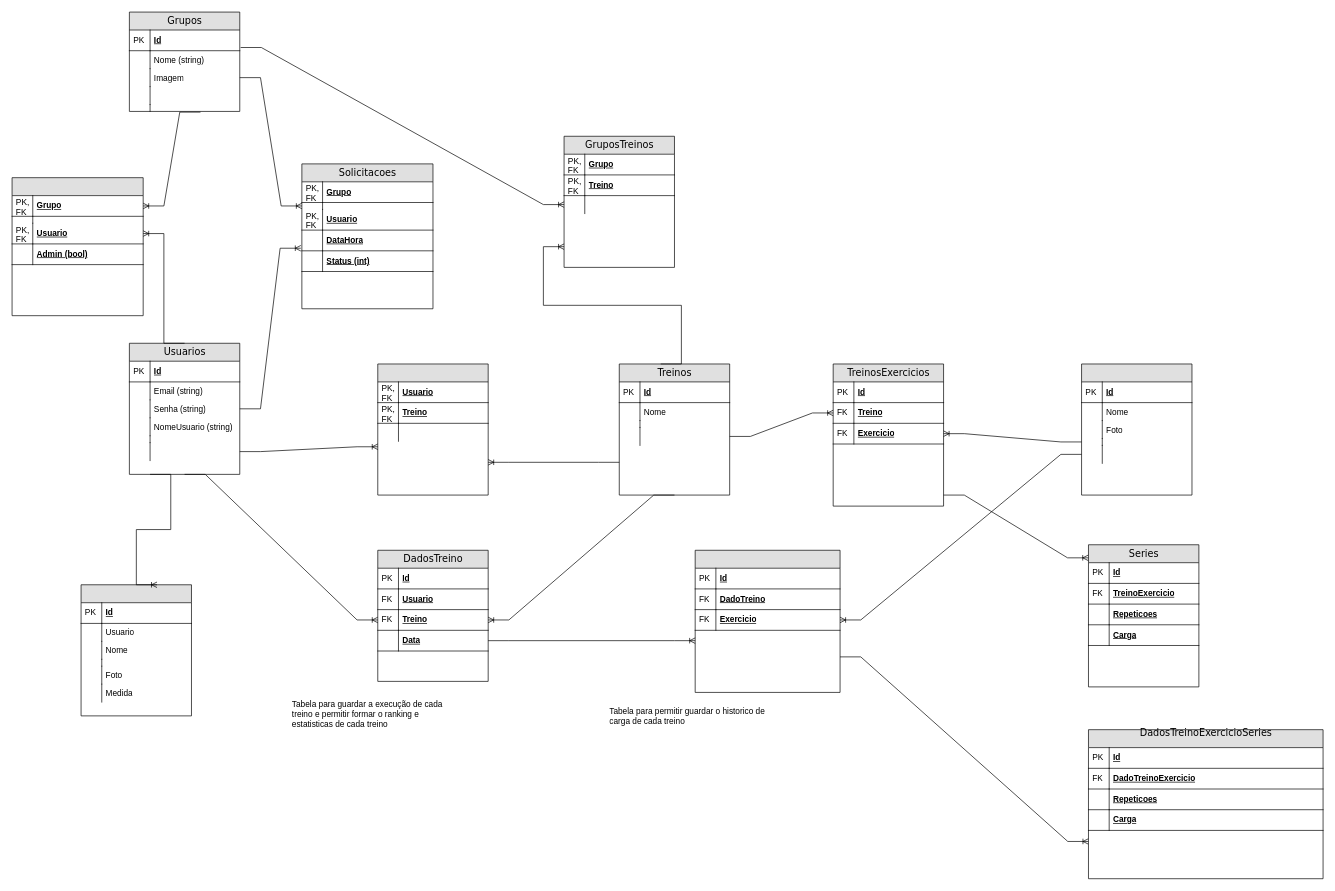
The diagram is 1335 pixels wide and 891 high, and some of its shapes have lost their labels. Here are the shapes that lost their labels. From the top down, the box of each, then its label:
(11, 177, 143, 316): UsuariosGrupos
(377, 363, 488, 495): UsuarioTreinos
(1081, 363, 1192, 495): Exercicios
(694, 550, 840, 692): DadosTreinoExercicios
(80, 584, 191, 716): Medidas
